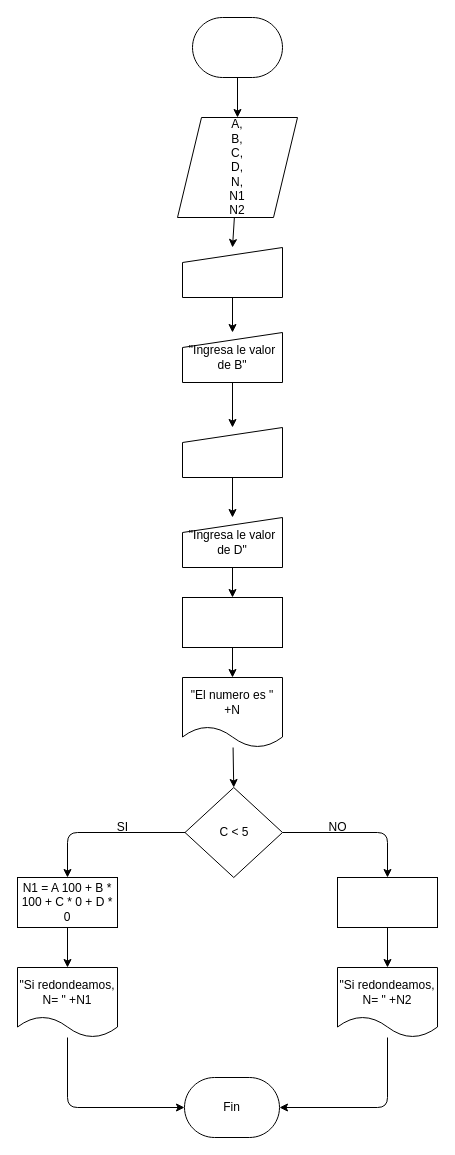
Image size: 455x1155. Some labels were removed from this diagram. The shapes that lost their labels are listed below. From the top down, each one's centre as x and y in pixels, then its label:
point (237, 47): Inicio
point (232, 272): "Ingresa le valor de A"
point (232, 452): "Ingresa le valor de C"
point (232, 622): N = A * 1000 B * 100 + C* 10 + D
point (387, 902): N2 = A 100 + B * 100 + C * 0 + D * 0
